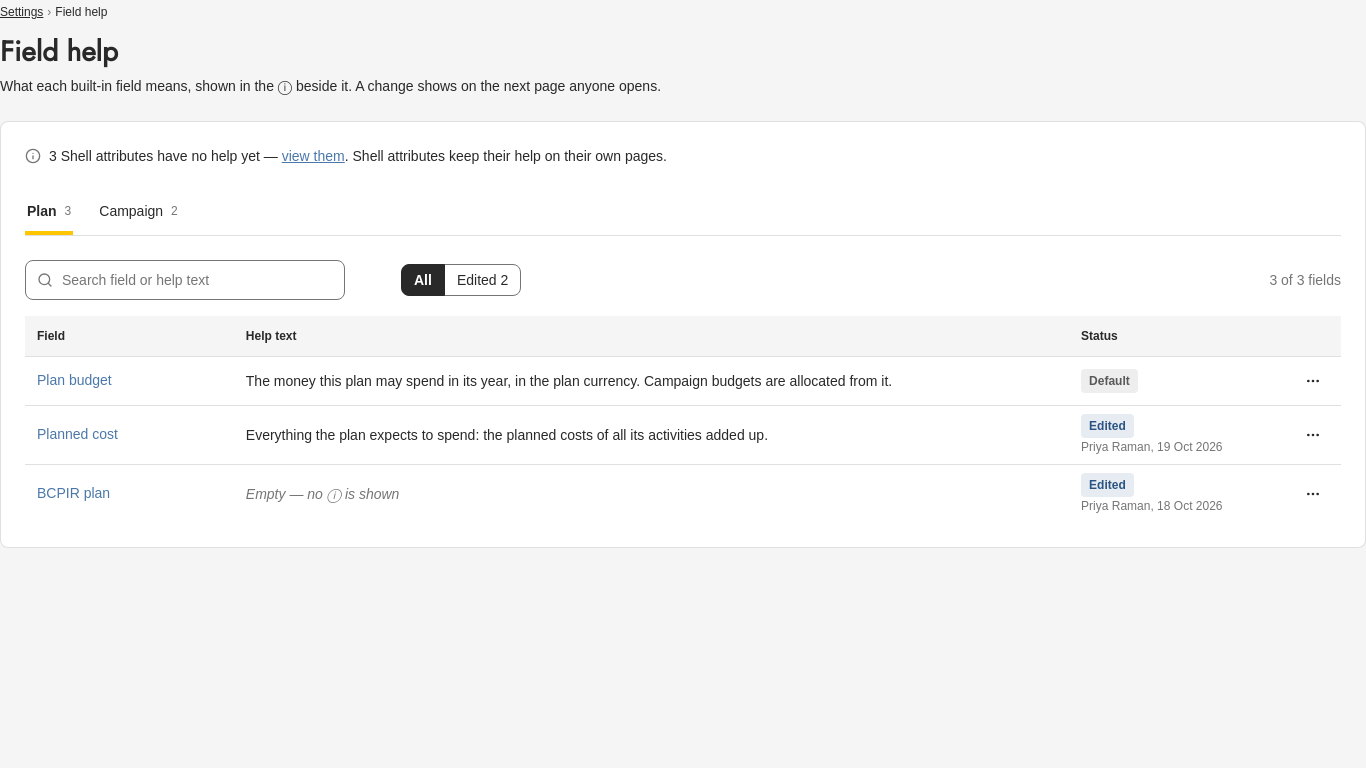
Test: FieldHelpPage: edit and reset (016 FR-046) › edits a text in a side panel and saves it with its version (US7-2)
Expected: the table is shown, top-left (25, 316), bottom-right (1341, 522)
Click the button "Plan budget": [74, 380] box top-left (37, 370), bottom-right (112, 391)
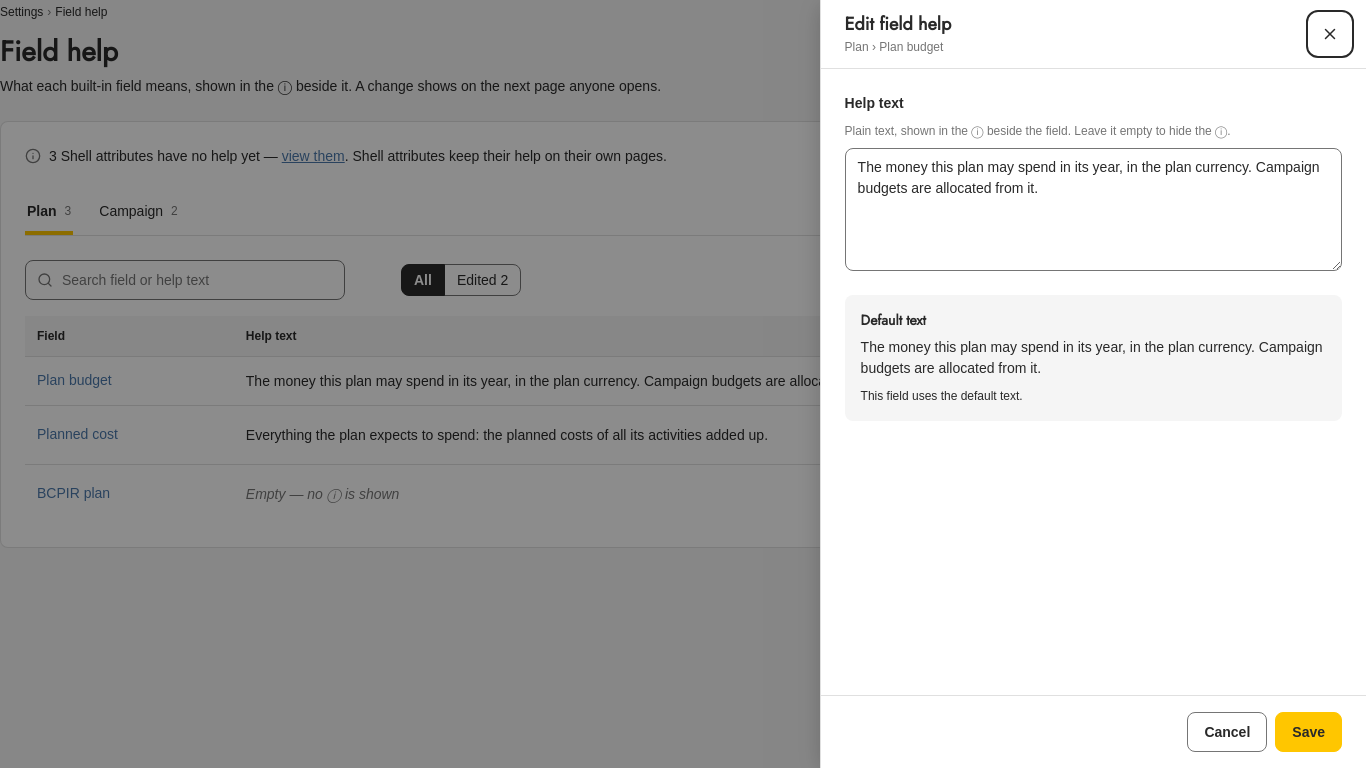
Expected: the dialog "Edit field help" shows "Plan › Plan budget", top-left (845, 40), bottom-right (943, 54)
Expected: the dialog "Edit field help" shows "This field uses the default text.", top-left (861, 389), bottom-right (1023, 403)
Clear the text box labelled "Help text": [1093, 210] box top-left (845, 148), bottom-right (1342, 271)
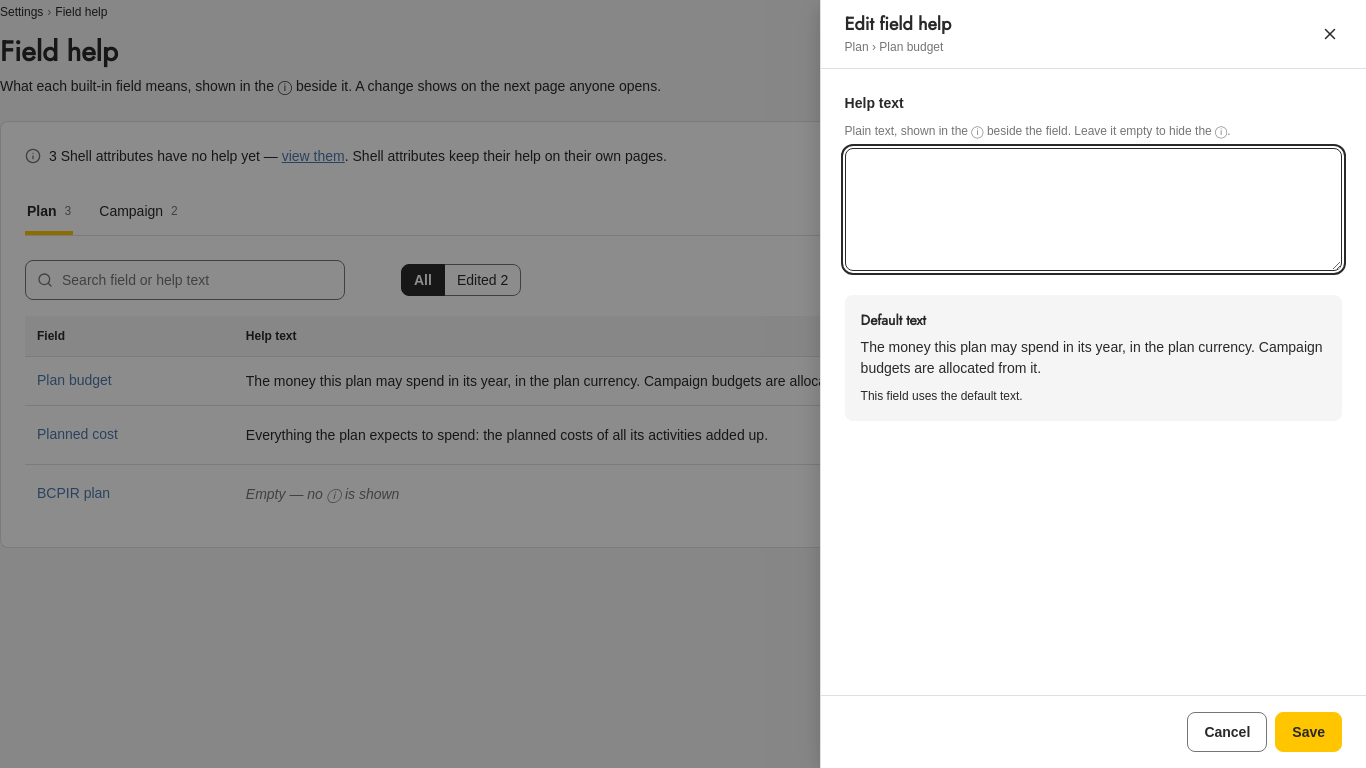
Type keys "What the plan may spend in its year."
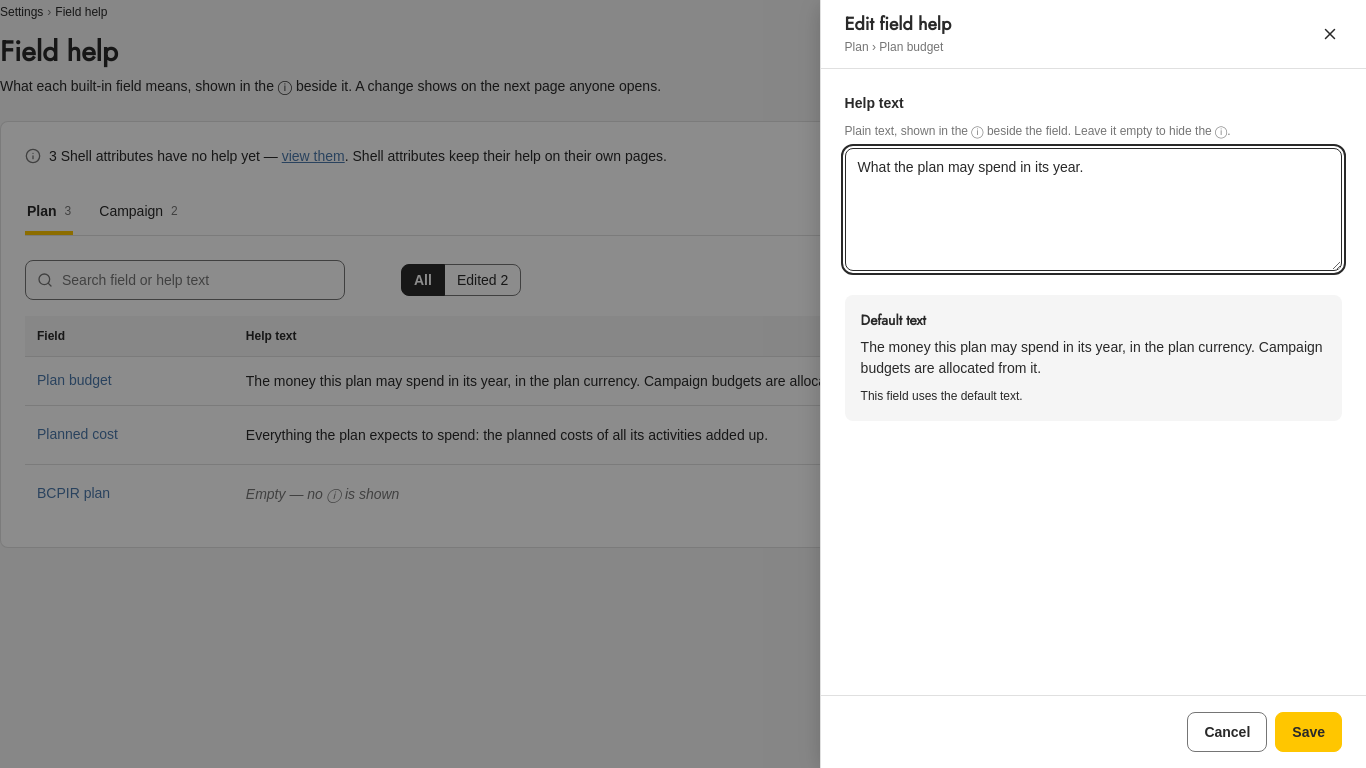
Click the button "Save": [1309, 732] box top-left (1275, 712), bottom-right (1342, 752)
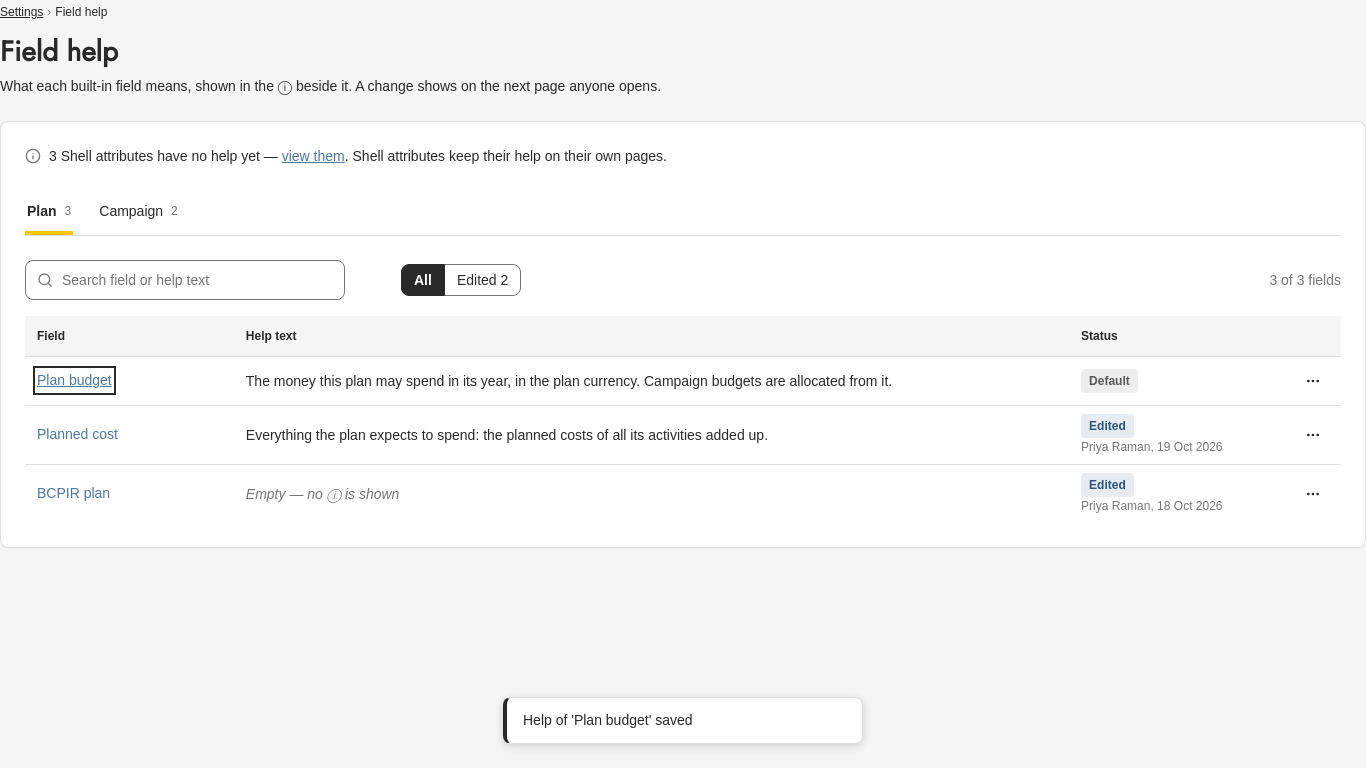
Expected: the dialog is gone
Expected: the text "Help of 'Plan budget' saved" is shown, top-left (523, 712), bottom-right (693, 728)
